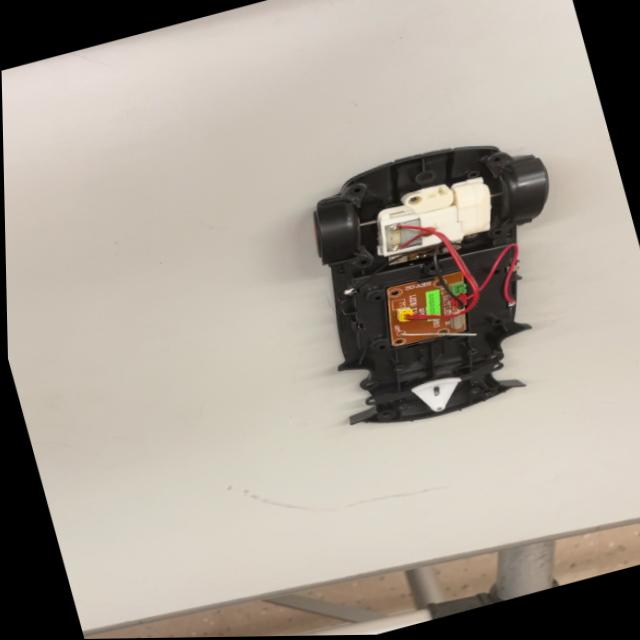Chassis: (292, 121, 609, 444)
